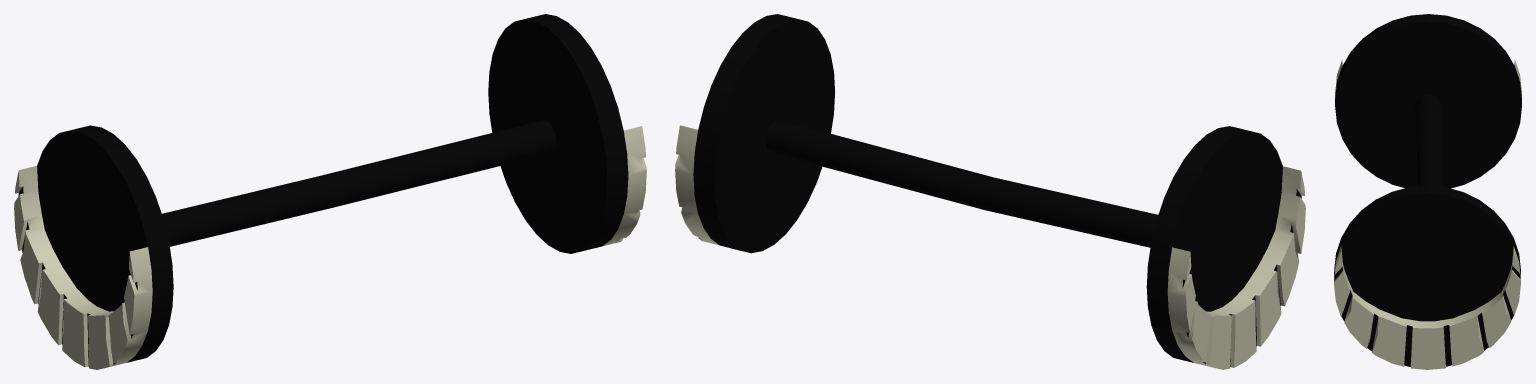
File: SM_Cheshire_Wheels.fbx
The picture shows the model from 3 angles, left to right: view 1: azimuth 30°, elevation 25°; view 2: azimuth 150°, elevation 25°; view 3: azimuth 270°, elevation 25°; orthographic projection. The views are drawn at different scales.
Parts seen in each view (by area): view 1: Cheshire Wheels; view 2: Cheshire Wheels; view 3: Cheshire Wheels.
Part boxes in pixels (x1,y1,x2,y2): Cheshire Wheels: [14, 14, 646, 369]; Cheshire Wheels: [675, 14, 1305, 369]; Cheshire Wheels: [1334, 14, 1521, 369].
Bounding box in the file's own units: 232 × 94.53 × 94.63.
